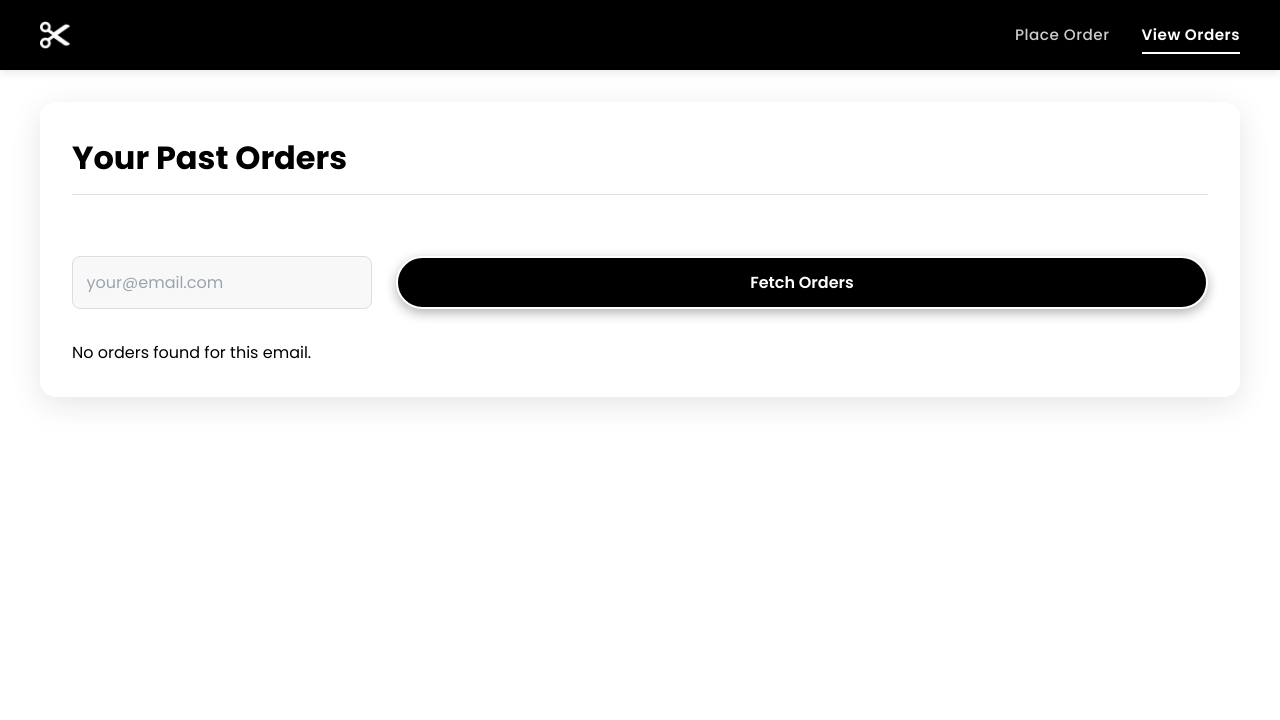
Test case: Dimalsha Fashions Website Tests › TC-PAST-001: Views past orders with valid email
Type "heyridmi@gmail.com" into the field with placeholder "your@email.com" at (222, 283), box [72, 256, 372, 309]
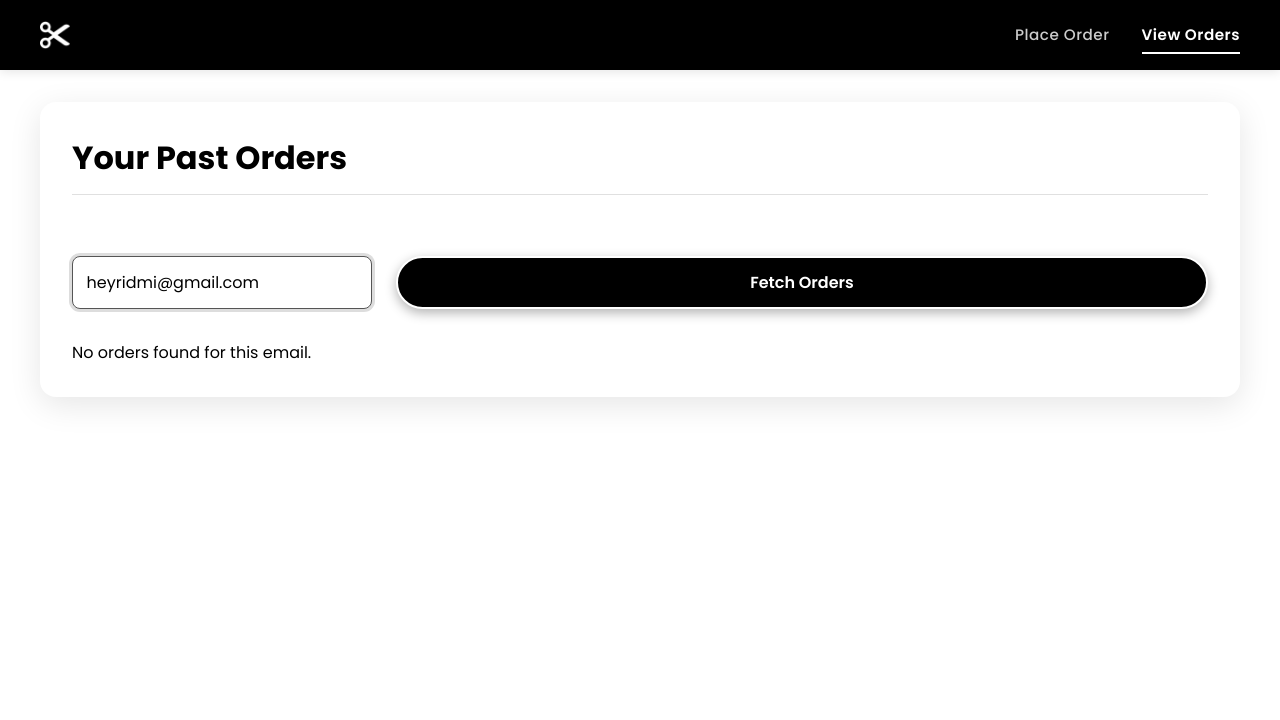
Click the button "Fetch Orders" at (802, 283), box [396, 256, 1208, 309]
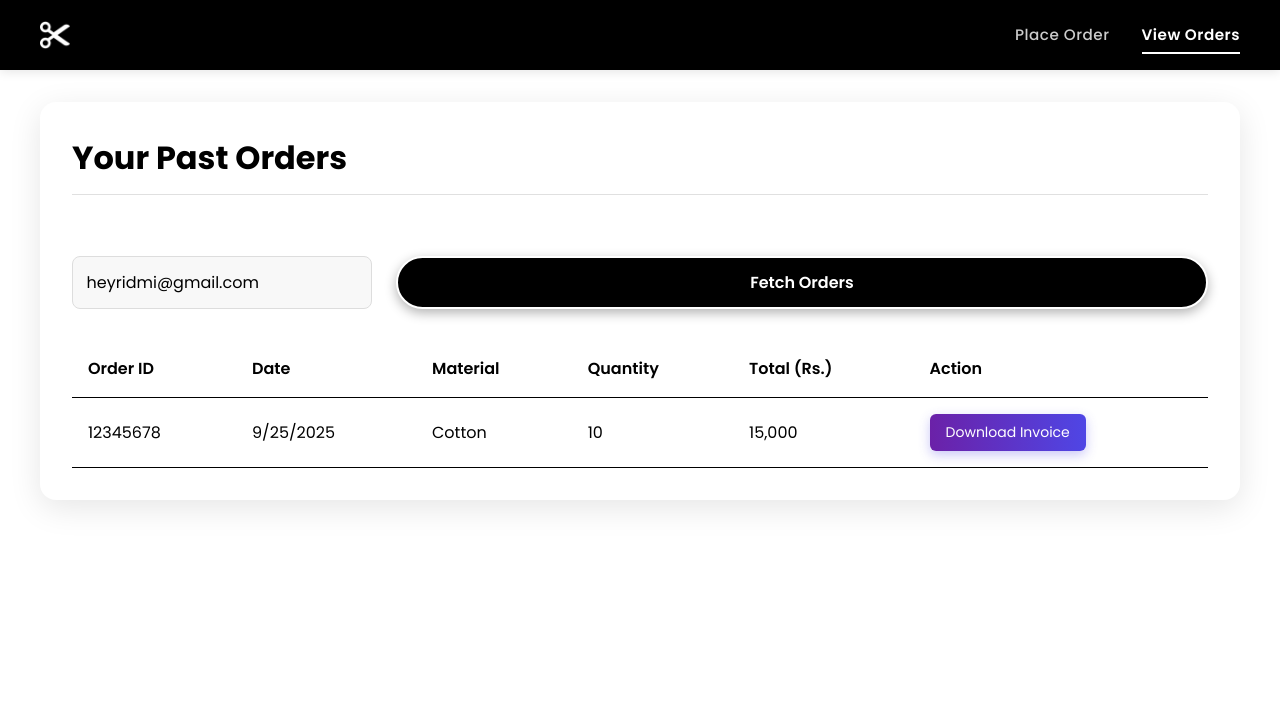
Now the table is shown, box [72, 341, 1208, 468]
Now the number of rows is at least 1, box [72, 398, 1208, 468]
